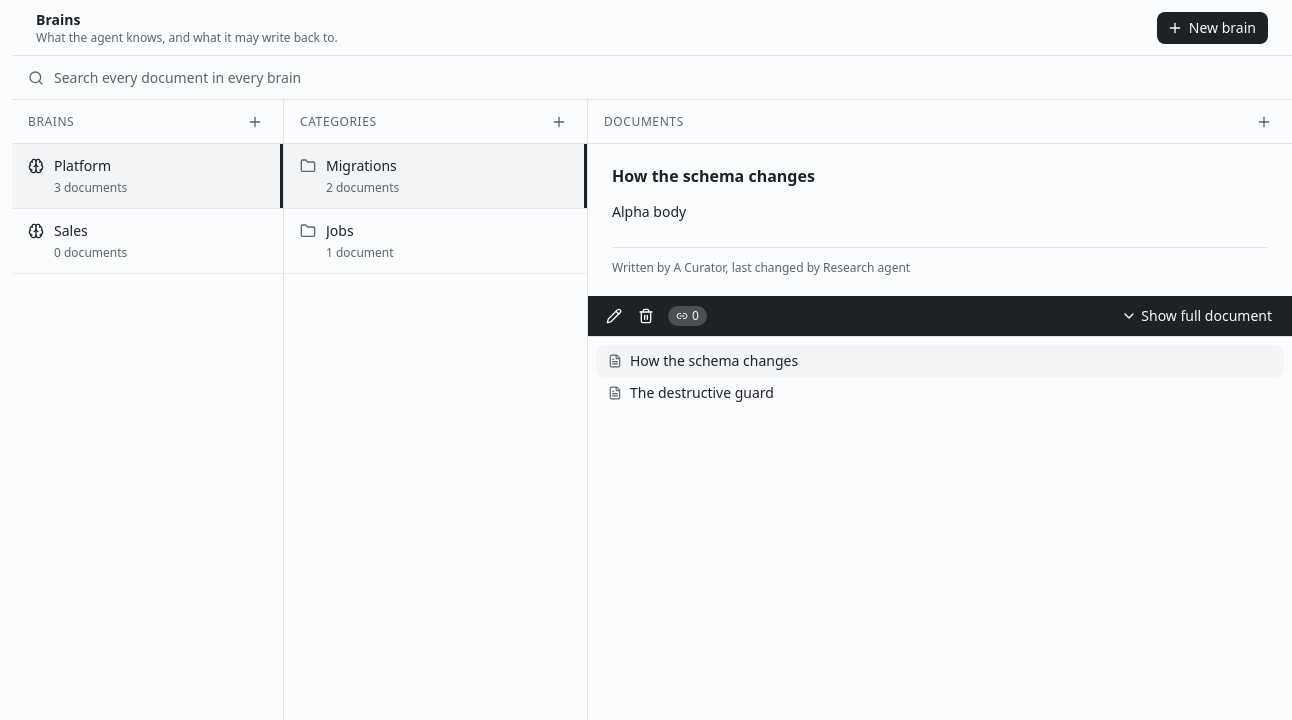
Test: the brains screen › does not empty the documents column when an expanded reader stops matching
expect the text "Alpha body" is shown: met, box [612,202,686,221]
// Expanded, the reader owns the whole column and the list is hidden.
Click the button "Show full document" at (1197, 316), box [1113,304,1280,328]
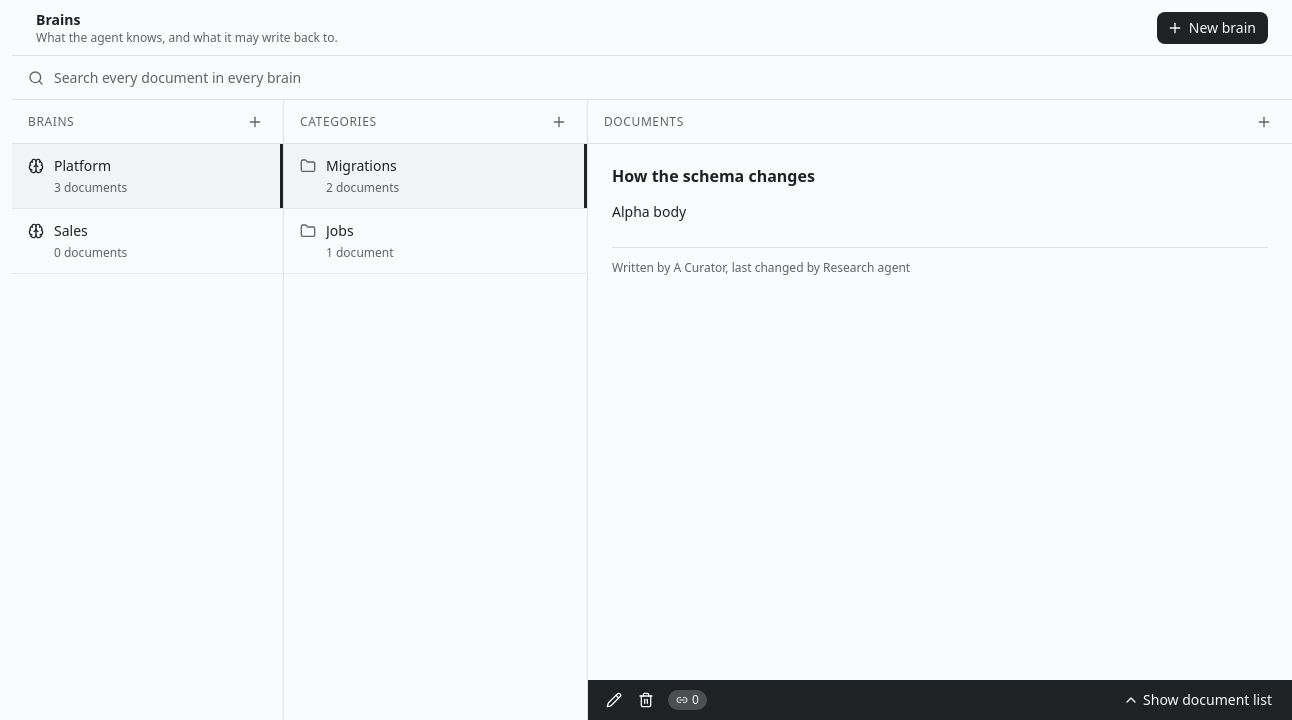
expect the button "The destructive guard" is gone: met
Type "nothinghere" into the field named "Search the knowledge base" at (665, 78), box [54,56,1276,99]
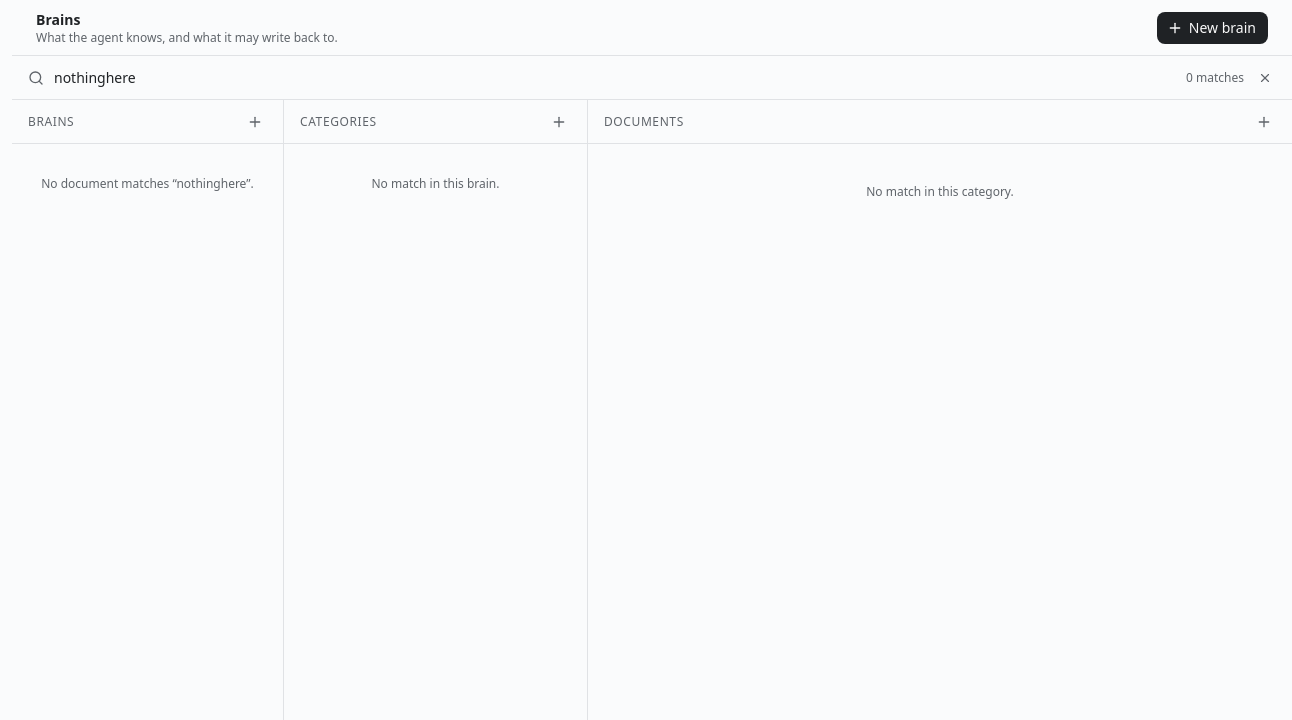
expect the text "No document matches “nothinghere”." is shown: met, box [41,175,254,192]
expect the text "No match in this category." is shown: met, box [866,183,1014,200]
